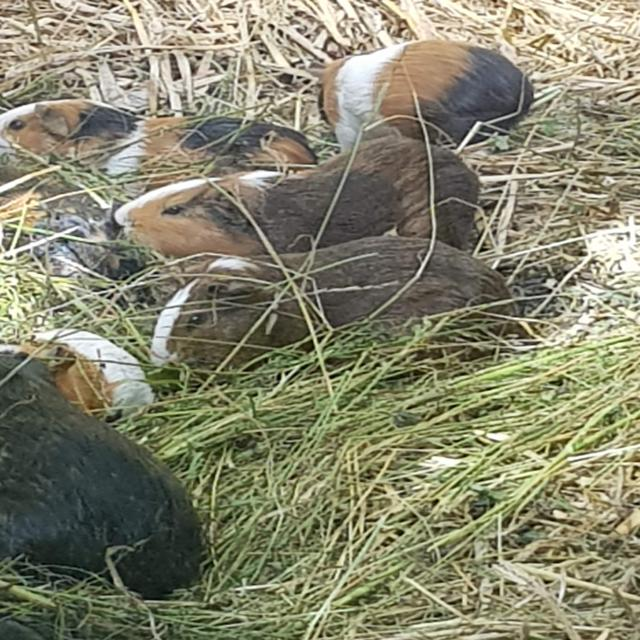guinea pig: (118, 233, 526, 378), (0, 336, 214, 598), (107, 132, 494, 257), (2, 82, 319, 181), (307, 39, 552, 148), (2, 163, 138, 288)
